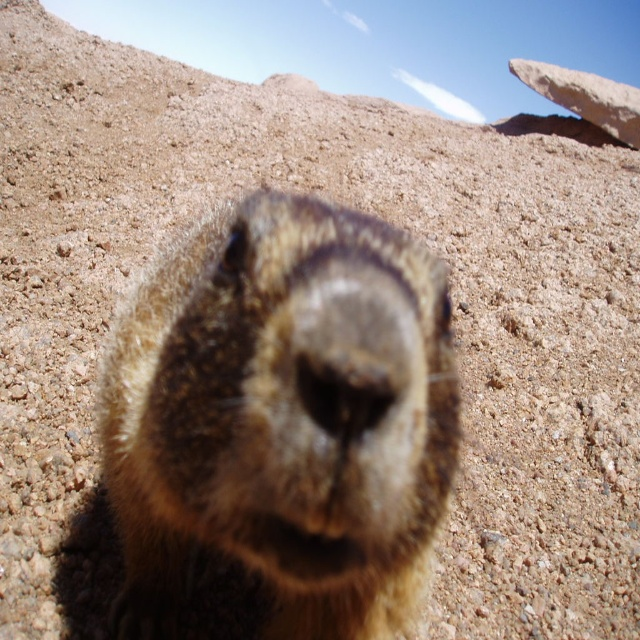Otter: (89, 185, 464, 639)
